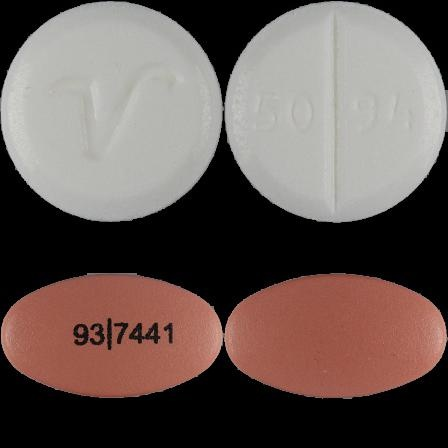55700-049: (0, 0, 224, 224)
